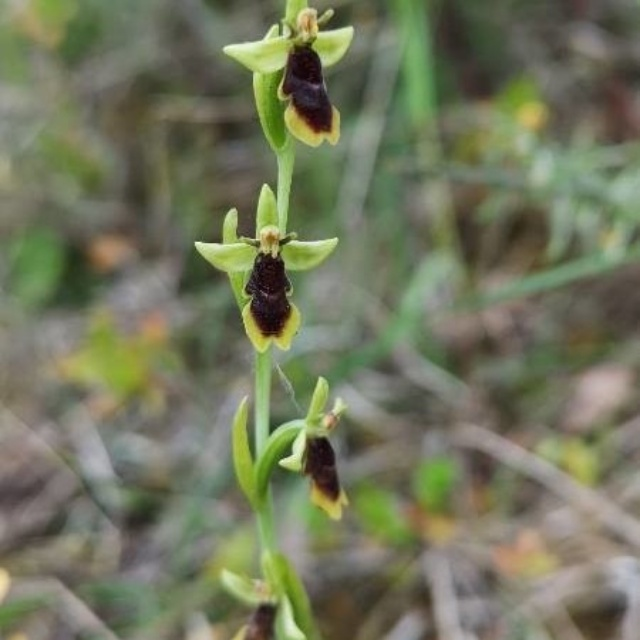obstacle: (192, 28, 385, 603)
